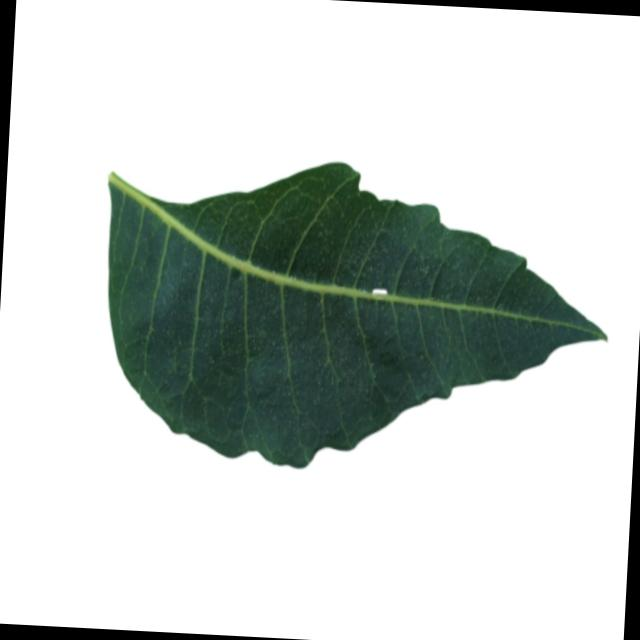Medicinal-Neem: (94, 148, 619, 484)
